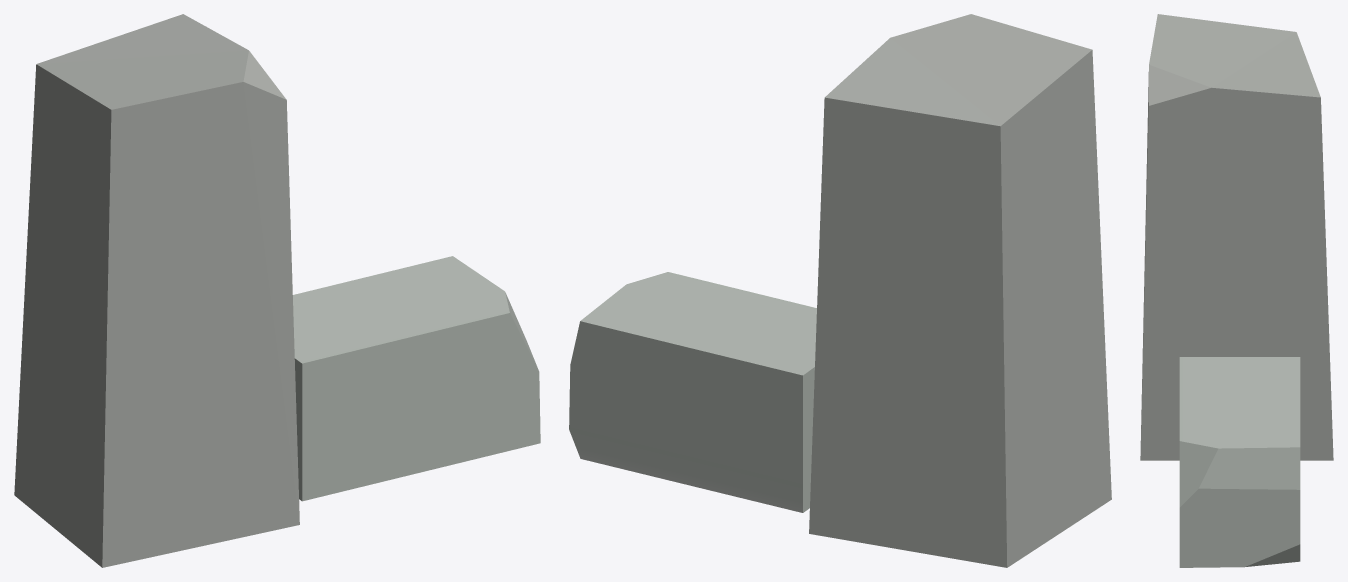
The model's file is Rocks_Square_l_04.fbx.
3 views of the same model, side by side, from view 1: azimuth 30°, elevation 25°; view 2: azimuth 150°, elevation 25°; view 3: azimuth 270°, elevation 25° (orthographic). The views are drawn at different scales.
Parts seen in each view (by area): view 1: Rocks_Square_l_04; view 2: Rocks_Square_l_04; view 3: Rocks_Square_l_04.
Part boxes in pixels (left/top/right/bottom): Rocks_Square_l_04: left=14, top=14, right=540, bottom=567; Rocks_Square_l_04: left=569, top=14, right=1111, bottom=567; Rocks_Square_l_04: left=1140, top=14, right=1333, bottom=567.
Bounding box in the file's own units: 192 × 181 × 84.64.
